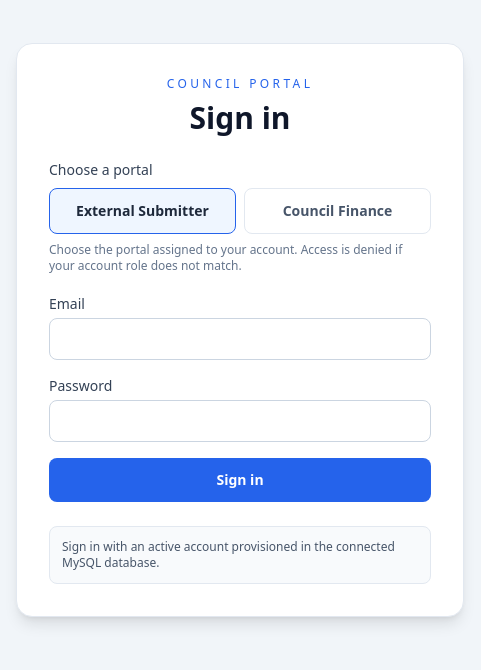
it: authentication session flows › does not persist a token if user identity lookup fails after login
This screenshot has width=481, height=670.
Step 1. Type "submitter@example.org" into the field labelled "Email" → point(240, 339), box top-left (49, 318), bottom-right (431, 360)
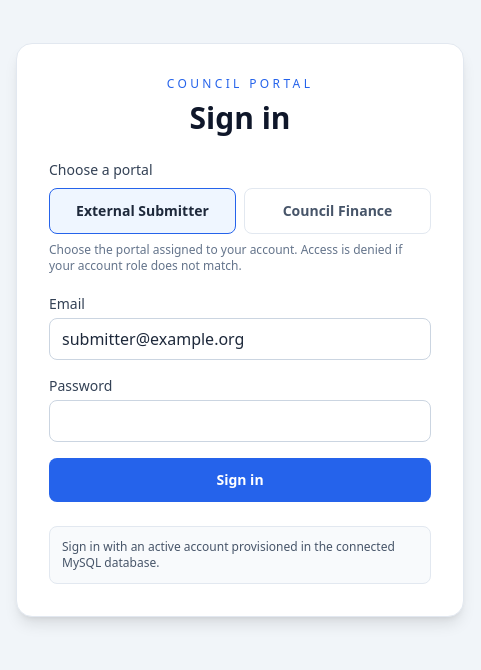
Step 2. Type "valid-password" into the password field labelled "Password" → point(240, 421), box top-left (49, 400), bottom-right (431, 442)
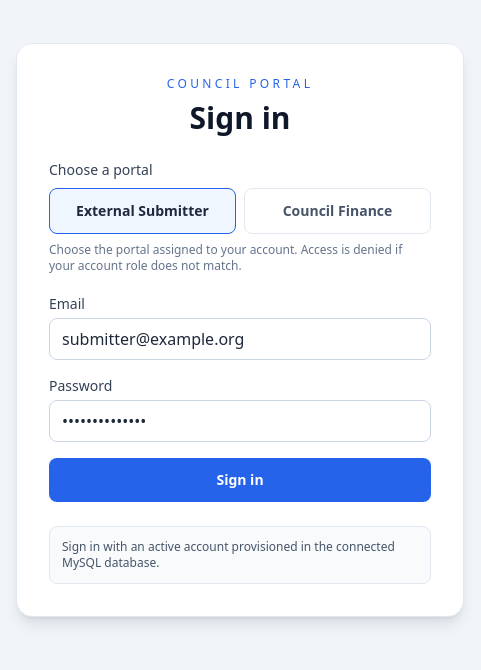
Step 3. Click the button "Sign in" → point(240, 480), box top-left (49, 458), bottom-right (431, 502)
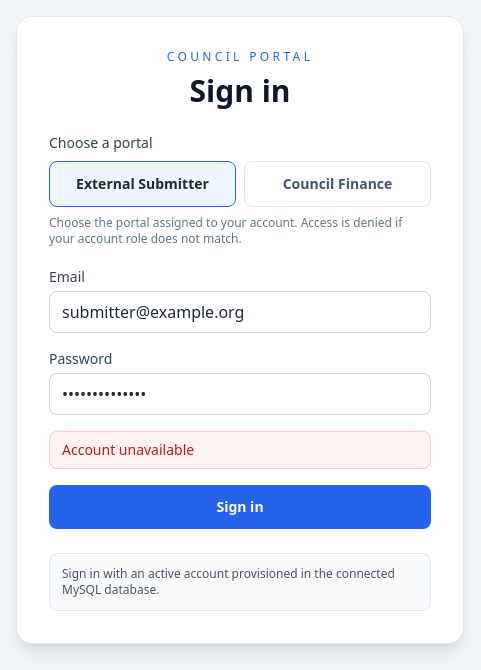
Result: the text "Account unavailable" is shown at top-left (49, 431), bottom-right (431, 469)
